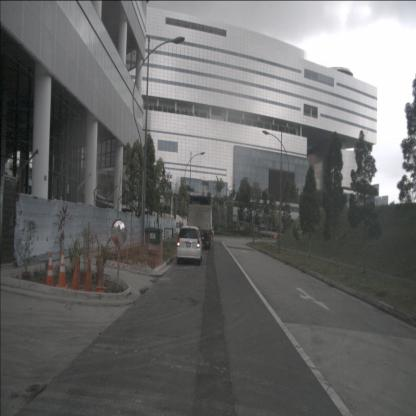cone: (55, 250, 68, 291), (69, 254, 82, 294), (96, 252, 107, 298), (44, 251, 54, 291), (84, 256, 94, 296)
